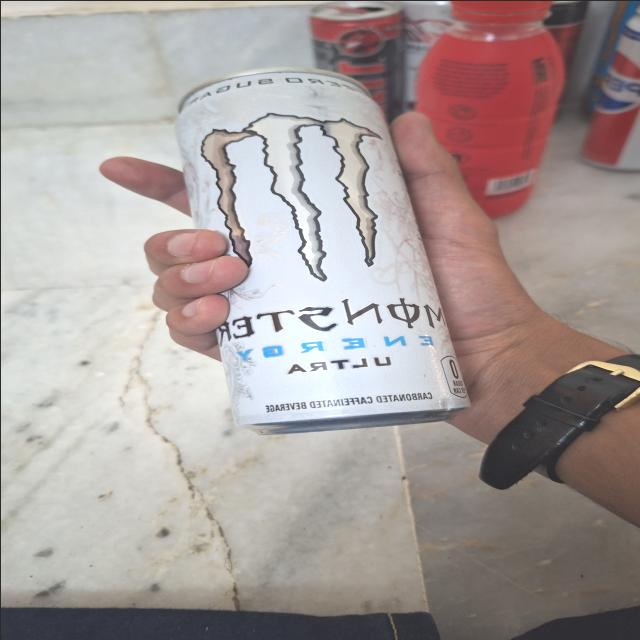White Monster: (192, 65, 468, 431)
